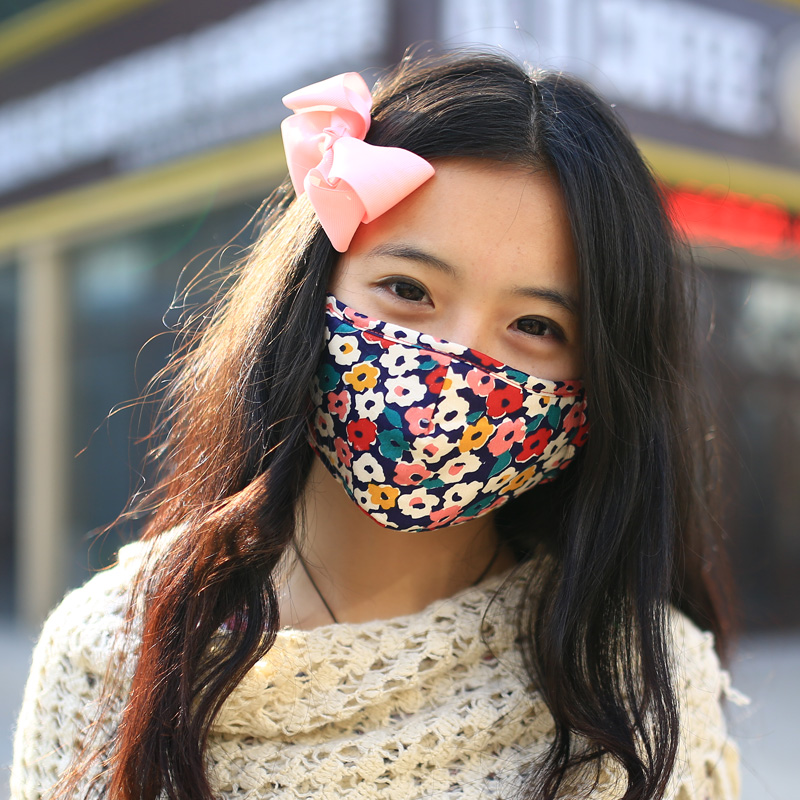face_mask: (318, 168, 589, 517)
